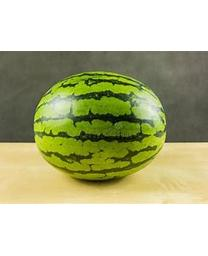watermelon: (33, 71, 166, 183)
